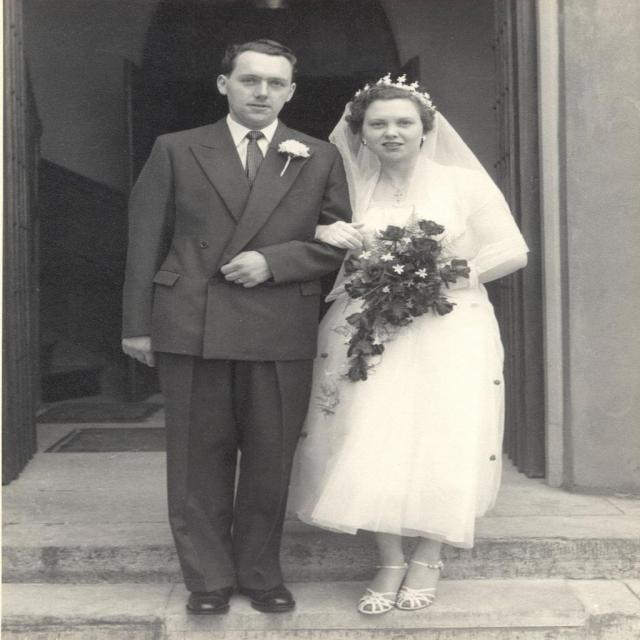Nonhelmet: (342, 76, 443, 169), (210, 34, 300, 128)
